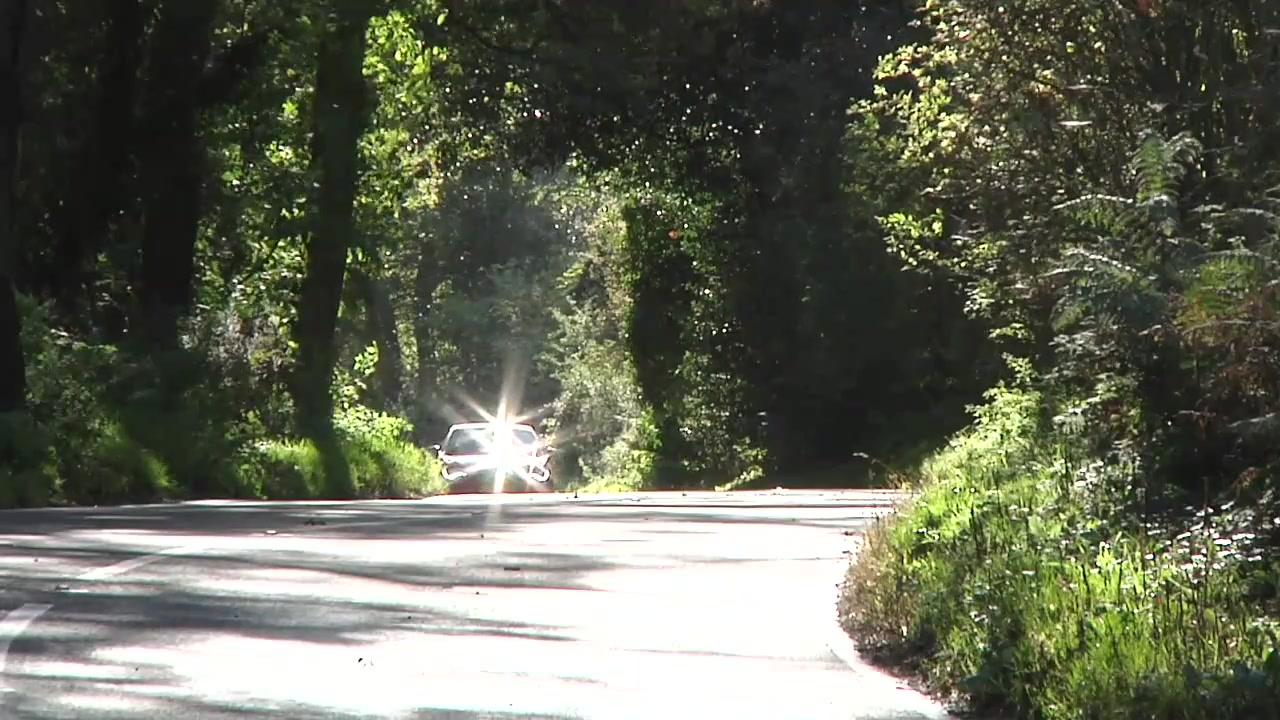car: (427, 417, 560, 496)
